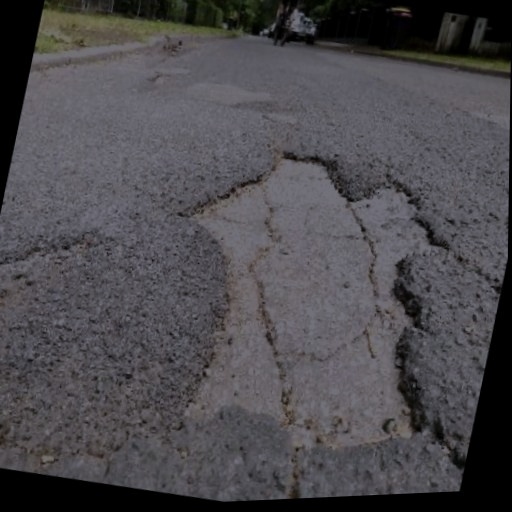pothole: (140, 118, 486, 477)
